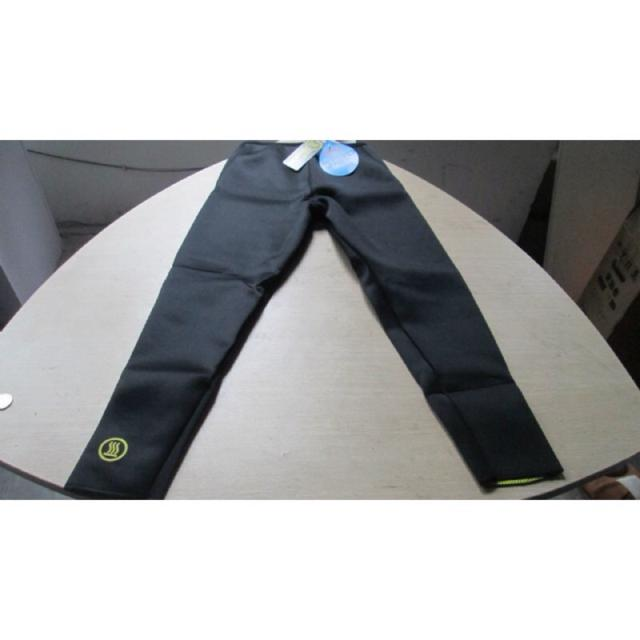Pants_Leggings: (70, 142, 567, 501)
